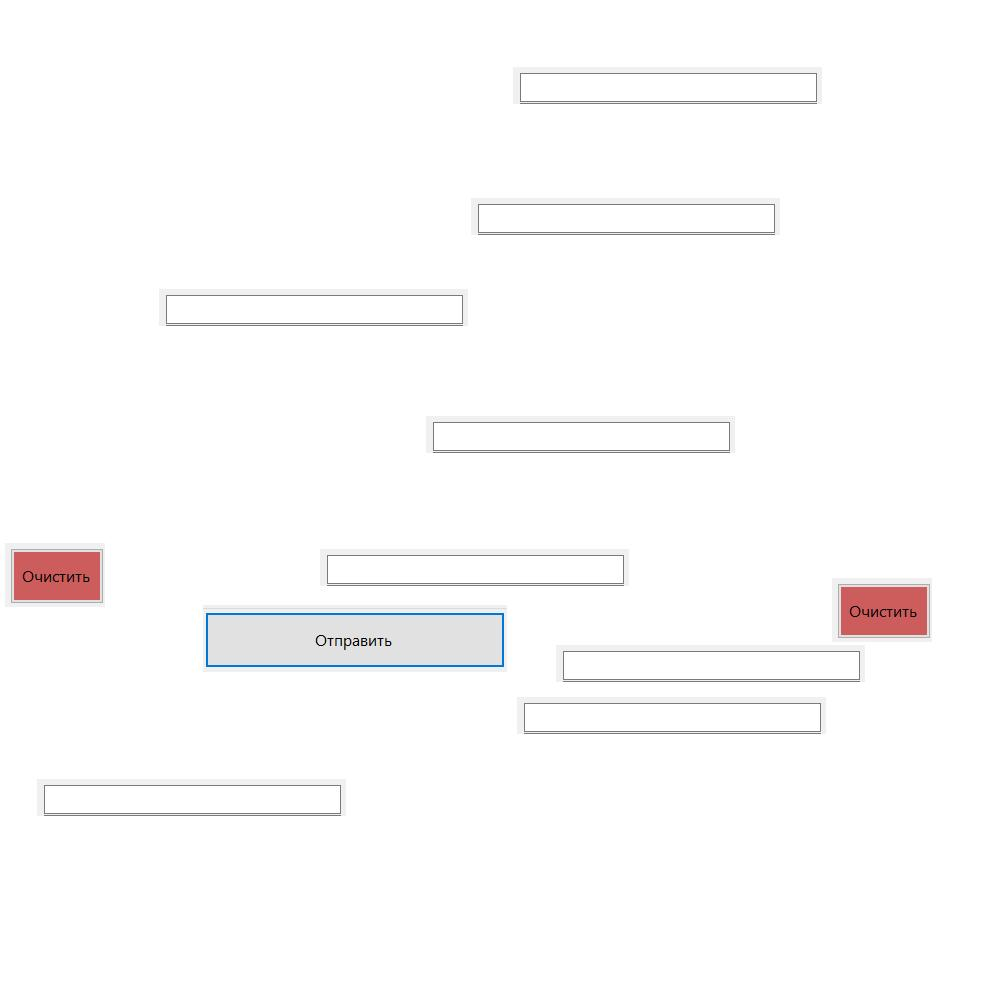Button: (203, 605, 507, 672), (832, 578, 932, 642), (5, 543, 105, 607)
EditText-: (517, 697, 826, 734), (513, 67, 822, 104), (320, 549, 629, 586), (471, 198, 780, 235), (159, 289, 468, 326), (37, 779, 346, 816), (556, 645, 865, 682), (426, 416, 735, 453)
